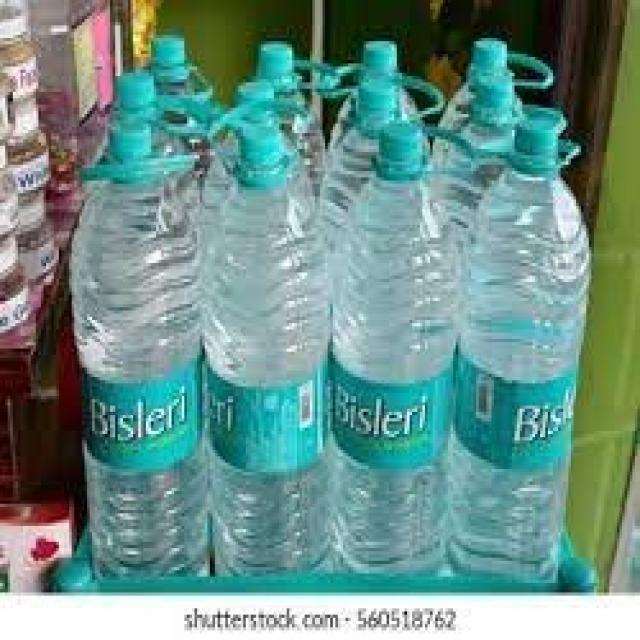bottle: (68, 32, 640, 618)
